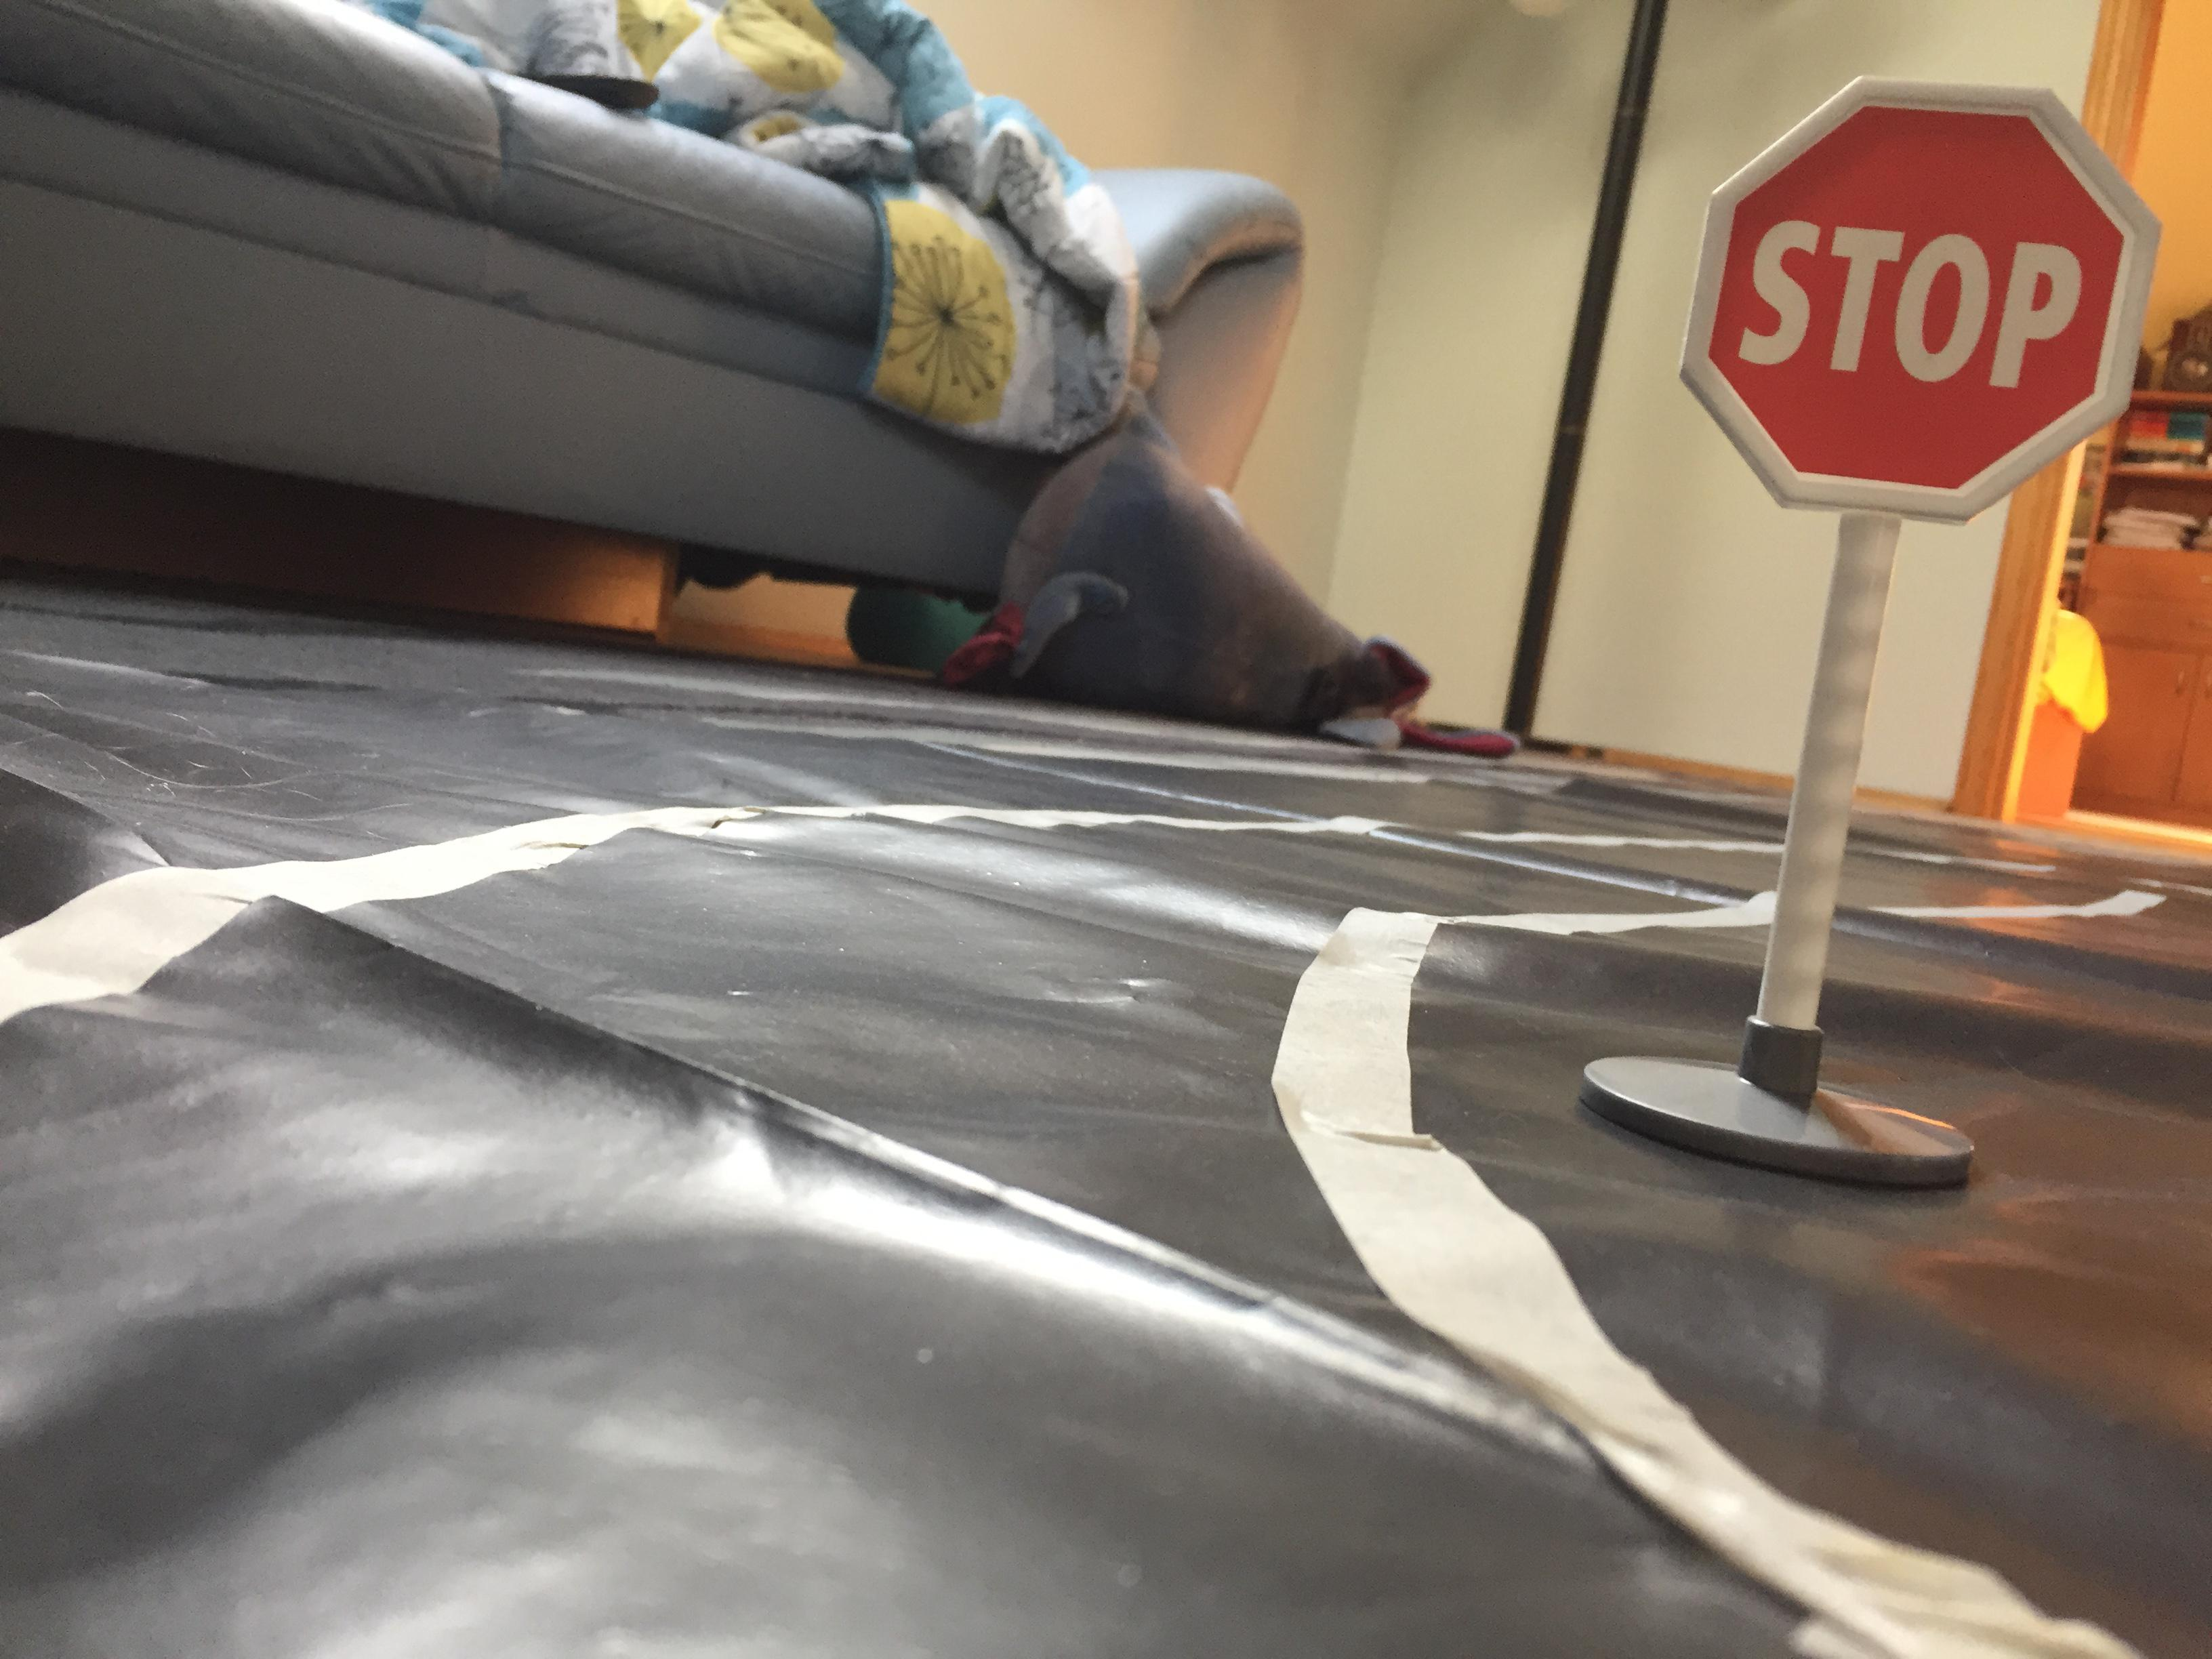stop: (1667, 71, 2175, 542)
